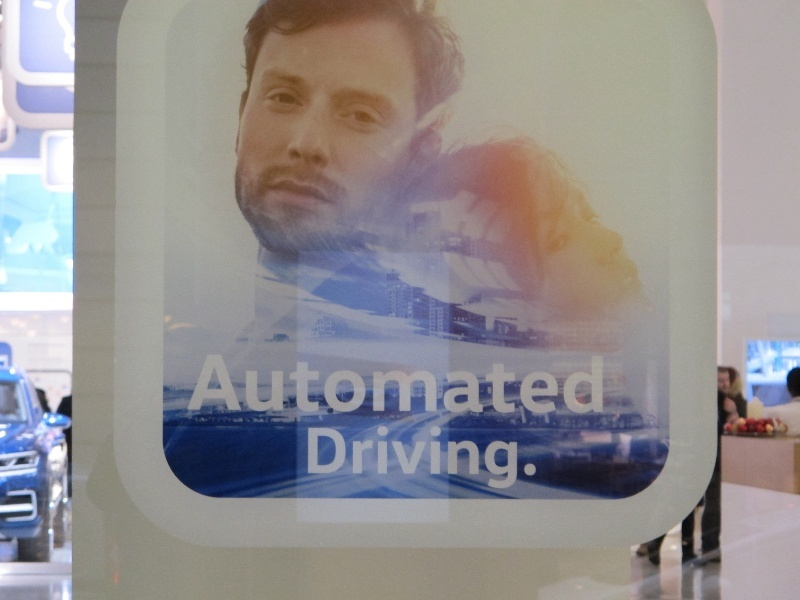text: (321, 428, 336, 493), (337, 428, 352, 493), (353, 428, 368, 493), (369, 428, 384, 493), (385, 428, 400, 493), (401, 428, 416, 493), (417, 428, 432, 493), (433, 428, 448, 493), (449, 428, 464, 493), (465, 428, 480, 493), (481, 428, 496, 493), (497, 428, 512, 493), (513, 428, 528, 493), (209, 355, 224, 416), (225, 355, 240, 416), (241, 355, 256, 416), (257, 355, 272, 416), (273, 355, 288, 416), (289, 355, 304, 416), (305, 355, 320, 416), (321, 355, 336, 416), (337, 355, 352, 416), (353, 355, 368, 416), (369, 355, 384, 416), (385, 355, 400, 416), (401, 355, 416, 416), (417, 355, 432, 416), (433, 355, 448, 416), (449, 355, 464, 416), (465, 355, 480, 416), (481, 355, 496, 416), (497, 355, 512, 416), (513, 355, 528, 416), (529, 355, 544, 416), (545, 355, 560, 416), (561, 355, 576, 416), (577, 355, 592, 416), (307, 428, 320, 493), (593, 355, 603, 416), (529, 428, 536, 493), (207, 355, 208, 416)
